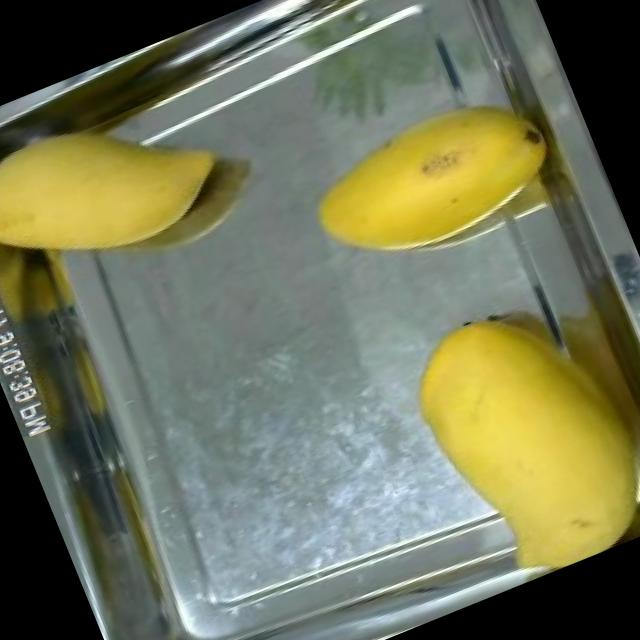fruit: (385, 258, 640, 597), (285, 63, 577, 291), (0, 61, 250, 308)
